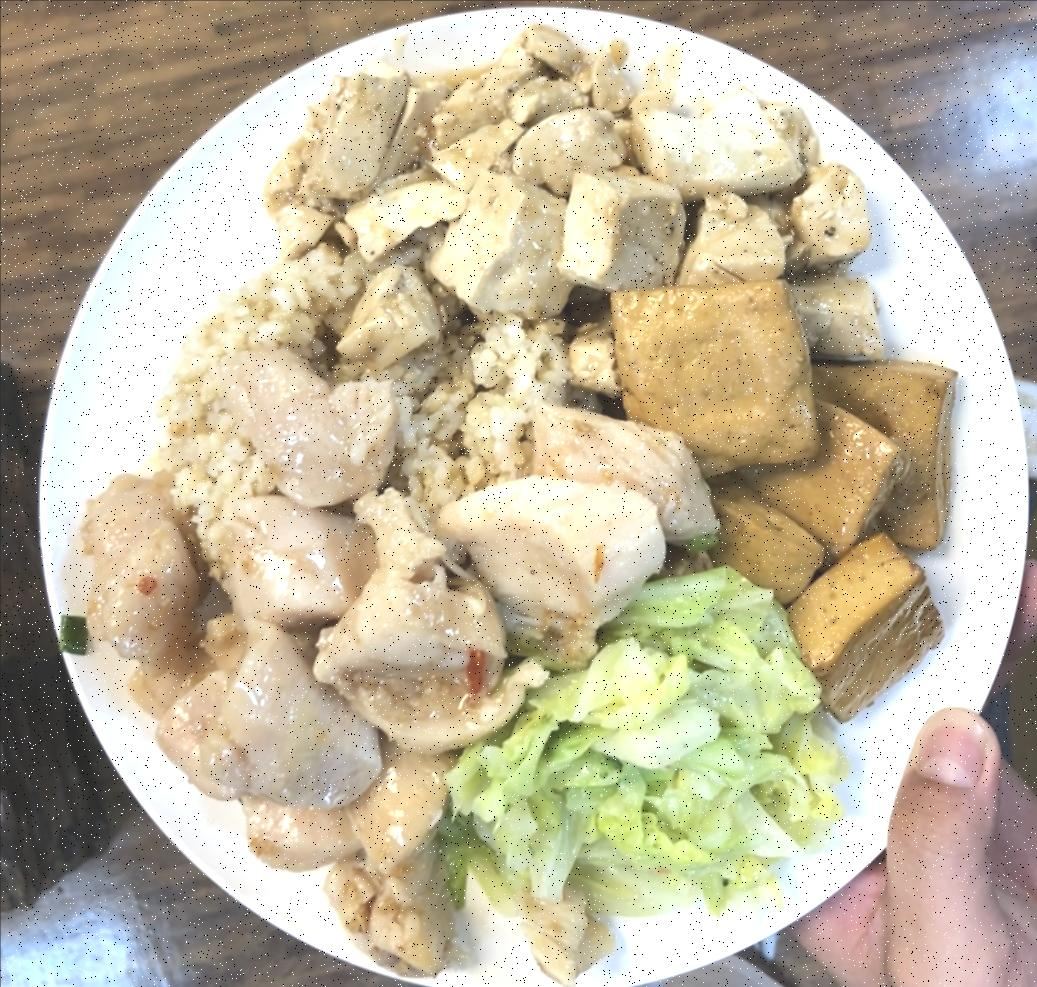brown rice: (154, 264, 582, 614)
plate: (26, 0, 1037, 987)
scallion chicken: (69, 354, 710, 979)
side dish: (279, 20, 876, 301), (598, 268, 972, 707), (441, 566, 848, 932)
